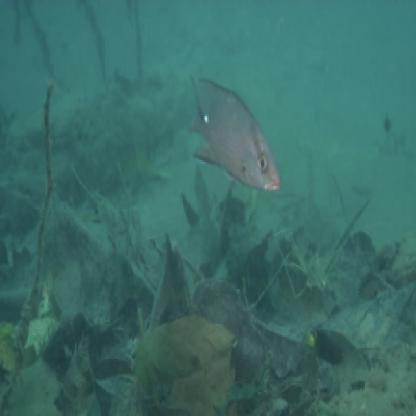snapper: (182, 62, 282, 196)
